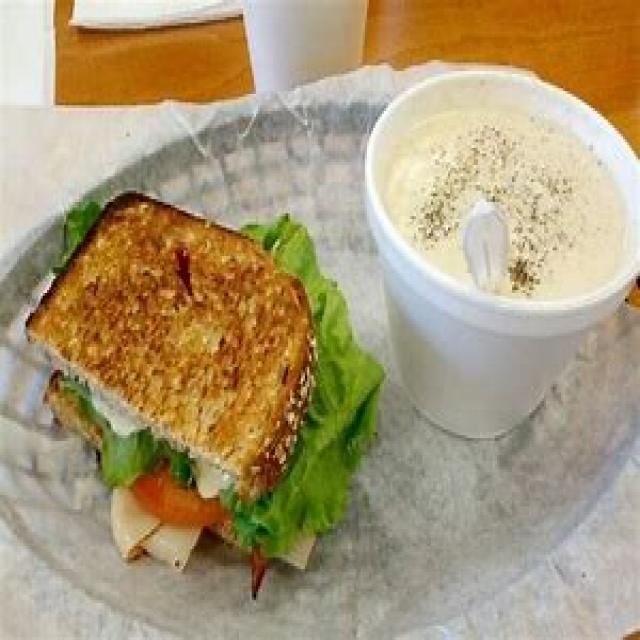Sandwich: (24, 190, 386, 606)
